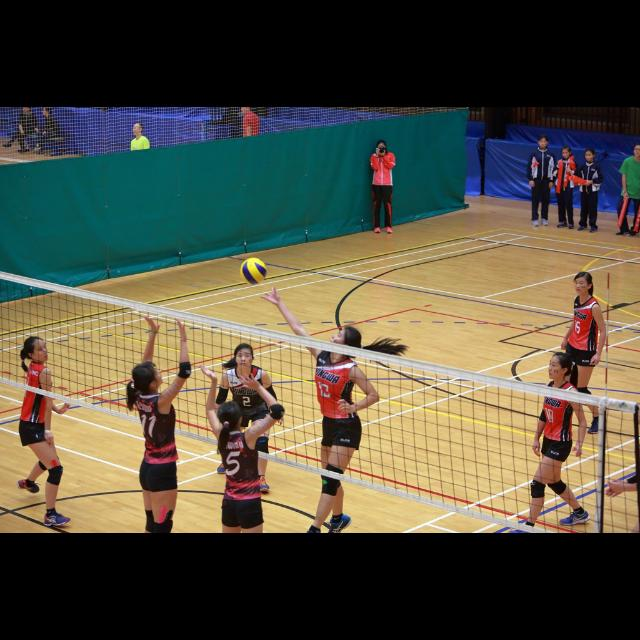head: (131, 363, 165, 391), (328, 328, 359, 357), (22, 336, 50, 364), (548, 353, 574, 381), (218, 402, 244, 426), (236, 344, 256, 371), (574, 273, 592, 295), (584, 148, 596, 162), (132, 122, 144, 136), (377, 140, 388, 154), (538, 136, 550, 148), (562, 145, 572, 159), (42, 106, 54, 115), (242, 107, 252, 115), (23, 107, 32, 113)
person: (210, 340, 286, 496), (15, 336, 75, 530), (540, 271, 608, 437), (526, 134, 560, 228), (572, 147, 606, 235), (369, 139, 397, 235), (552, 145, 582, 231), (128, 121, 152, 199), (2, 107, 40, 155), (239, 107, 263, 181), (32, 108, 66, 158)
